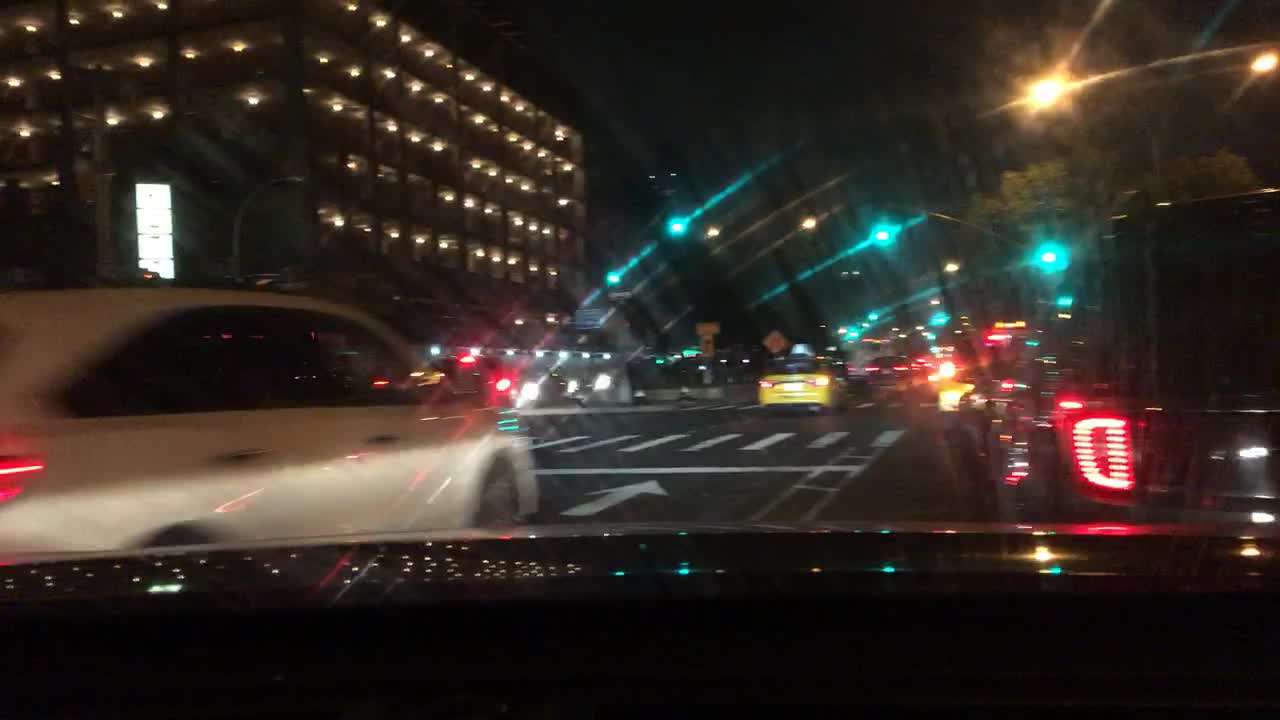car: (0, 284, 542, 533), (945, 194, 1277, 526), (758, 339, 854, 420), (931, 341, 1006, 421), (857, 348, 940, 407), (839, 326, 910, 392), (424, 352, 505, 405), (492, 361, 569, 414), (558, 361, 639, 408), (914, 348, 953, 377)
traffic light: (1039, 238, 1063, 273), (602, 262, 626, 287), (872, 218, 894, 245), (668, 210, 689, 238), (933, 302, 947, 326), (848, 315, 861, 337)
traffic sign: (571, 304, 615, 331), (758, 326, 791, 359), (692, 319, 722, 341), (696, 335, 718, 363), (610, 289, 635, 300)
